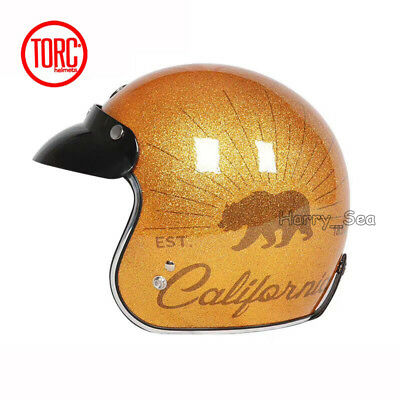with_helmet: (39, 64, 356, 332)
